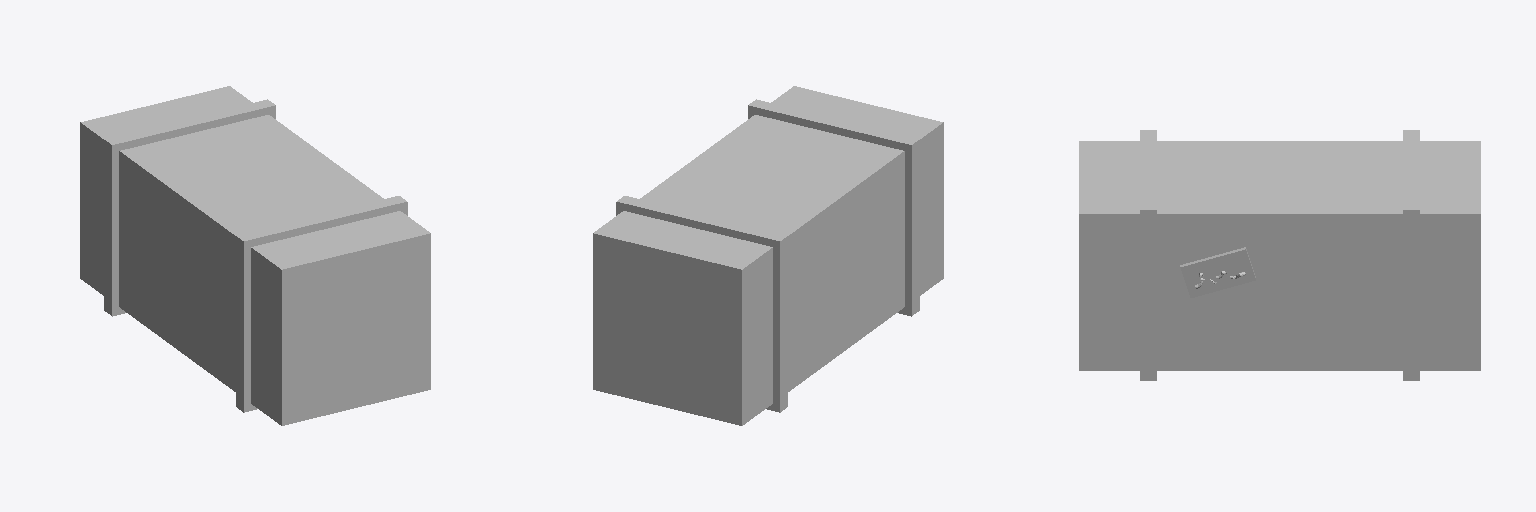
Rendered from Crate.obj.
3 renders of one model, left to right at view 1: azimuth 30°, elevation 25°; view 2: azimuth 150°, elevation 25°; view 3: azimuth 270°, elevation 25°, orthographic.
Visible parts, largest first — view 1: group[number redacted], group[number redacted], group[number redacted]; view 2: group[number redacted], group[number redacted], group[number redacted]; view 3: group[number redacted], group[number redacted], group[number redacted], group[number redacted].
Boxes of the visible parts, box(x1,y1,x2,y2) form: group[number redacted]: box(80, 86, 430, 425); group[number redacted]: box(104, 99, 275, 316); group[number redacted]: box(236, 196, 407, 412); group[number redacted]: box(593, 86, 943, 425); group[number redacted]: box(748, 99, 919, 316); group[number redacted]: box(616, 196, 787, 412); group[number redacted]: box(1079, 141, 1480, 370); group[number redacted]: box(1140, 130, 1156, 380); group[number redacted]: box(1403, 130, 1419, 380); group[number redacted]: box(1180, 247, 1255, 297).
Size of the model in its own units: 0.4611 by 0.46 by 0.98.